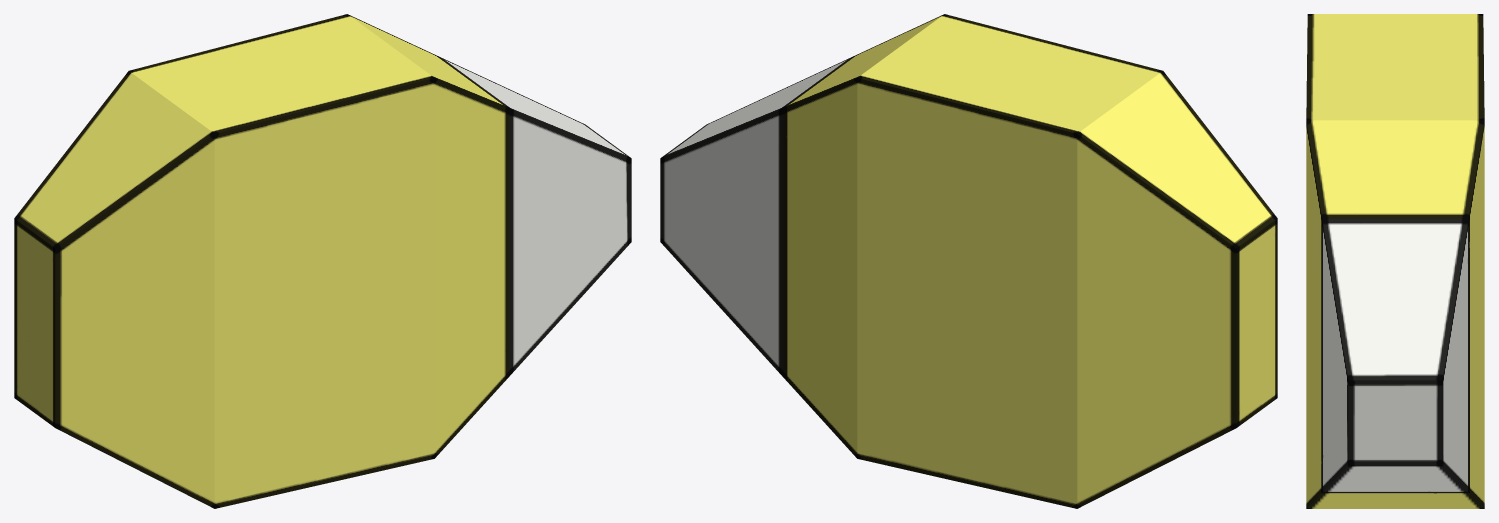
Rendered from Projectile.fbx.
3 renders of one model, left to right at view 1: azimuth 30°, elevation 25°; view 2: azimuth 150°, elevation 25°; view 3: azimuth 270°, elevation 25°, orthographic. The views are drawn at different scales.
Parts seen in each view (by area): view 1: Projectile; view 2: Projectile; view 3: Projectile.
Boxes of the visible parts, x1,y1,x2,y2 form: Projectile: [14, 14, 631, 508]; Projectile: [660, 14, 1277, 508]; Projectile: [1306, 14, 1484, 508].
Size of the model in its own units: 0.3853 by 0.2444 by 0.1016.
1 material, 1 textured.
